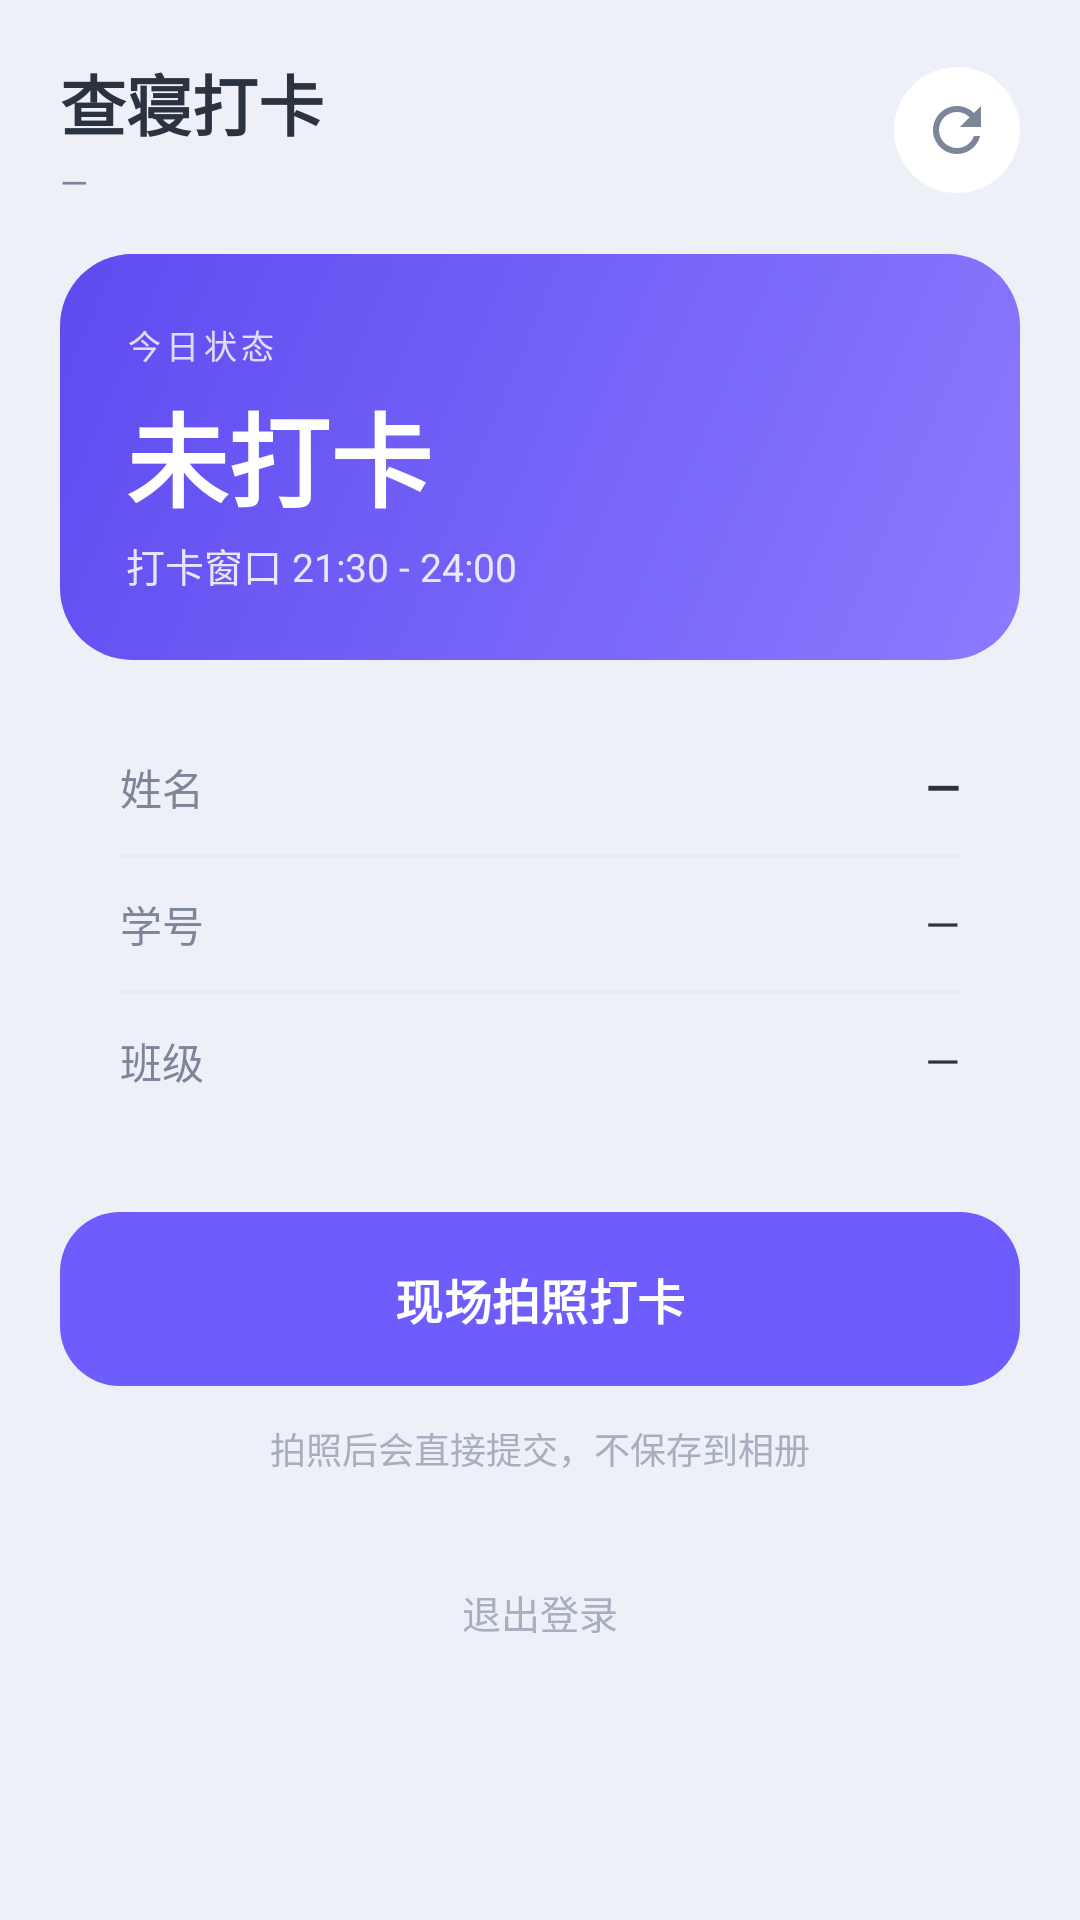

Where to tap for icons on this 1080×1920 app screen, as (x=x, y=y):
刷新状态: (x=957, y=130)
